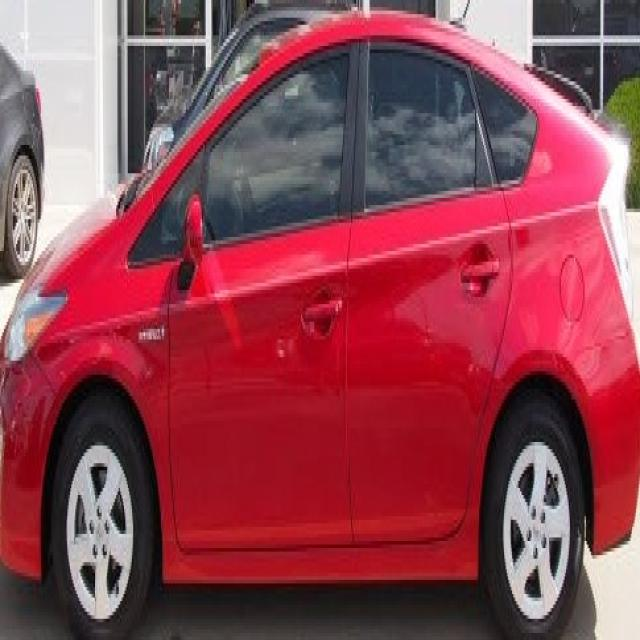red: (2, 25, 630, 640)
